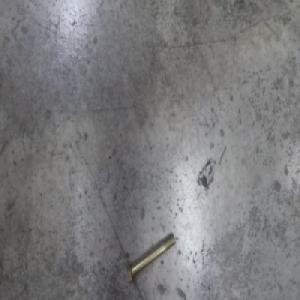Bolt: (125, 231, 175, 288)
